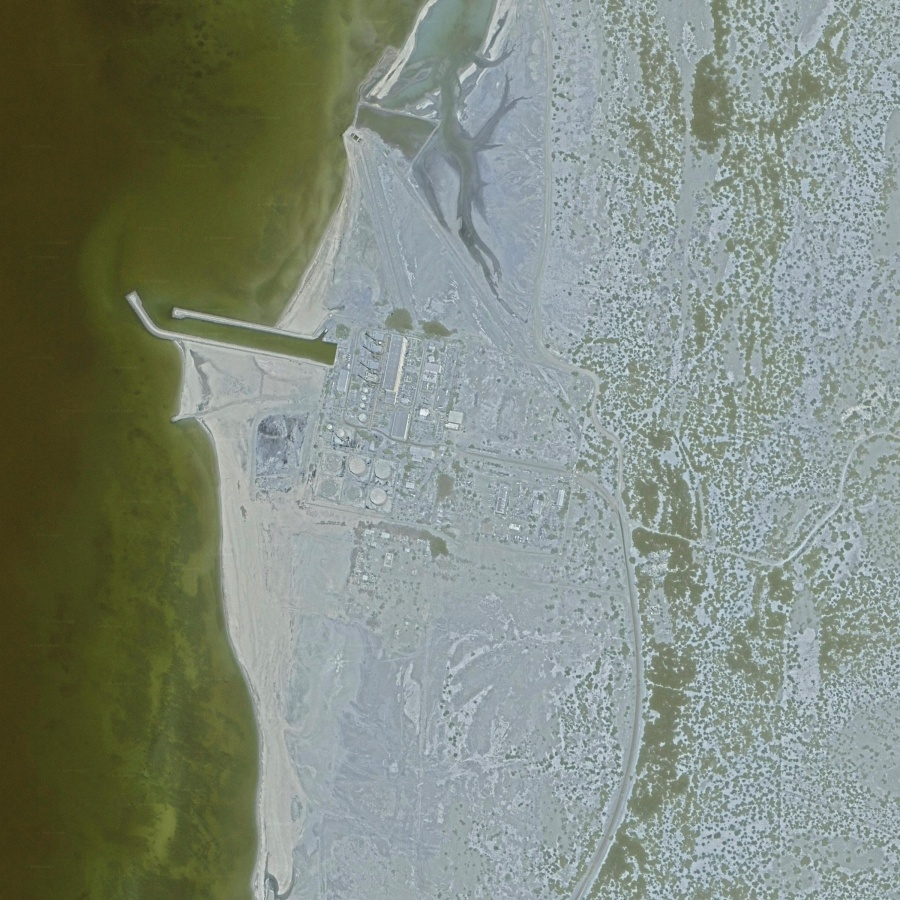PowerPlant: (244, 320, 472, 523)
